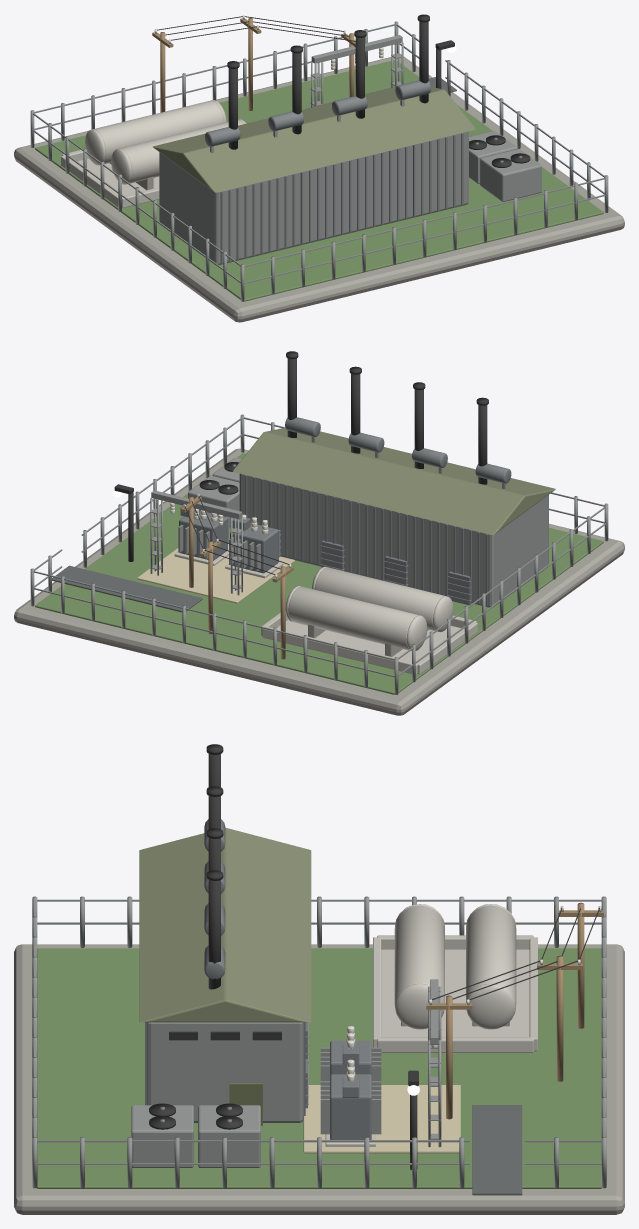
The model's file is power_4.glb.
3 views of the same model, one above another, from view 1: azimuth 30°, elevation 25°; view 2: azimuth 150°, elevation 25°; view 3: azimuth 270°, elevation 25° (orthographic). The views are drawn at different scales.
Visible parts, largest first — view 1: Cube.001, Cube.003, Cube, prism, Cylinder.021, Cube.098, Cylinder.020, Cube.099, Cube.157, Cube.162, Cube.146, Cube.100 (+17 smaller); view 2: Cube.001, Cube.003, prism, Cube, Cylinder.021, Cylinder.020, Cube.109, Cube.002, Cube.100, Cube.101, Cube.110, Cube.123 (+21 smaller); view 3: Cube.001, prism, Cube, Cube.003, Cube.109, Cube.100, Cube.002, Cylinder.021, Cylinder.020, Cube.098, Cube.099, Cube.123 (+16 smaller).
Part boxes in pixels (box(x1,y1,x2,y2)): Cube.001: box(35, 60, 603, 301); Cube.003: box(159, 131, 468, 264); Cube: box(14, 56, 624, 322); prism: box(152, 87, 475, 192); Cylinder.021: box(93, 100, 223, 163); Cube.098: box(480, 149, 541, 201); Cylinder.020: box(119, 120, 243, 183); Cube.099: box(469, 131, 517, 183); Cube.157: box(244, 194, 605, 283); Cube.162: box(244, 178, 605, 267); Cube.146: box(311, 35, 402, 63); Cube.100: box(77, 158, 159, 195); Cube.001: box(35, 453, 603, 694); Cube.003: box(239, 473, 548, 607); prism: box(232, 427, 555, 535); Cube: box(14, 448, 624, 715); Cylinder.021: box(288, 586, 418, 650); Cylinder.020: box(314, 567, 444, 630); Cube.109: box(137, 544, 294, 603); Cube.002: box(52, 565, 202, 612); Cube.100: box(277, 619, 460, 661); Cube.101: box(262, 626, 417, 674); Cube.110: box(230, 523, 278, 573); Cube.123: box(179, 510, 227, 560); Cube.001: box(37, 948, 601, 1188); prism: box(139, 827, 311, 1022); Cube: box(14, 944, 624, 1214); Cube.003: box(147, 1022, 303, 1122); Cube.109: box(303, 1085, 460, 1153); Cube.100: box(381, 949, 529, 1036); Cube.002: box(472, 1105, 522, 1195); Cylinder.021: box(466, 905, 516, 1004); Cylinder.020: box(394, 905, 444, 1004); Cube.098: box(131, 1105, 193, 1167); Cube.099: box(198, 1105, 260, 1167); Cube.123: box(330, 1074, 371, 1139).
Size of the model in its own units: 2.92 by 1.37 by 2.92.
